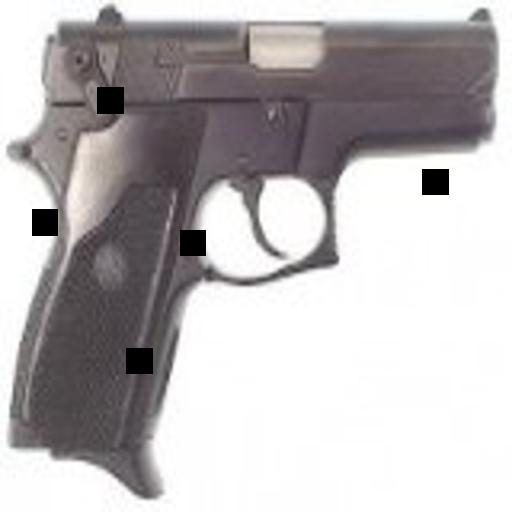Handgun: (8, 3, 495, 502)
